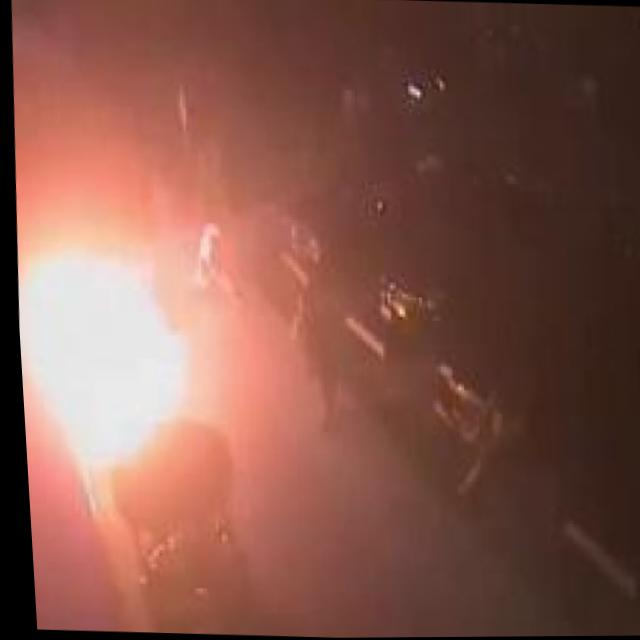fire: (11, 231, 206, 498)
